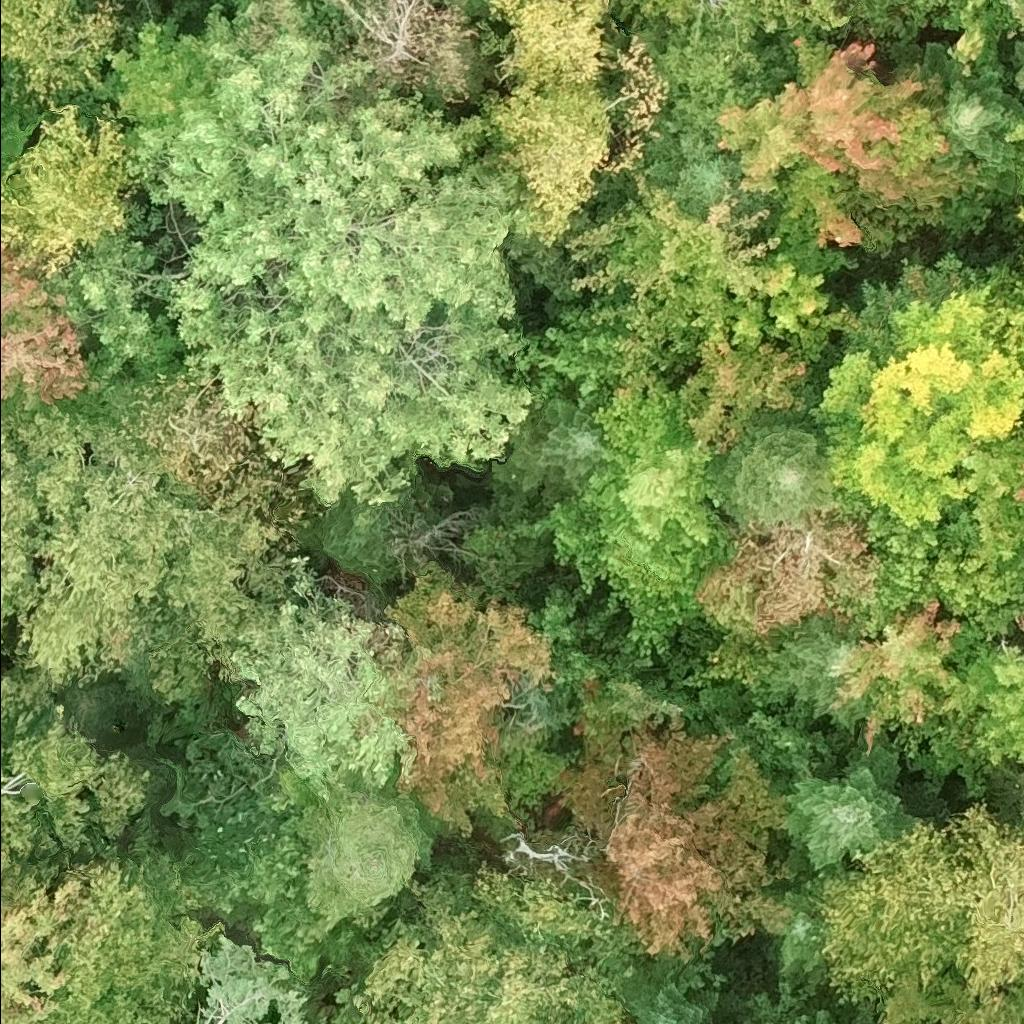crown: (47, 34, 532, 507), (20, 422, 287, 723), (533, 172, 855, 386), (787, 249, 1023, 529), (560, 714, 796, 964), (714, 32, 978, 246), (384, 557, 554, 834), (355, 858, 632, 1023), (227, 552, 412, 799), (535, 435, 732, 656), (0, 664, 156, 903), (457, 76, 614, 295), (0, 388, 120, 648), (54, 850, 227, 1023), (818, 820, 968, 1001), (768, 725, 928, 880), (700, 506, 883, 641), (287, 771, 434, 935), (896, 31, 1023, 212), (0, 96, 124, 280), (859, 506, 1023, 637), (101, 2, 237, 154), (831, 598, 961, 748), (0, 860, 105, 1023), (330, 0, 480, 112), (0, 239, 99, 403), (678, 340, 809, 462), (759, 611, 876, 747), (951, 797, 1023, 1006), (704, 412, 836, 525), (488, 396, 611, 515), (0, 0, 122, 100), (641, 125, 775, 214), (484, 0, 609, 90), (195, 931, 310, 1023), (938, 644, 1023, 765), (957, 423, 1023, 575), (587, 372, 702, 458), (868, 960, 1023, 1023), (909, 0, 1022, 79), (617, 947, 725, 1023), (762, 869, 832, 982), (226, 0, 348, 47), (724, 0, 858, 40), (991, 770, 1023, 824), (1005, 120, 1023, 186), (1010, 37, 1023, 100), (447, 0, 488, 16), (1010, 453, 1023, 503), (1009, 0, 1023, 27), (0, 841, 10, 875), (1015, 199, 1023, 229), (1014, 253, 1023, 271), (1021, 955, 1023, 994), (1020, 999, 1023, 1023), (314, 1020, 324, 1023), (1023, 100, 1023, 101)
